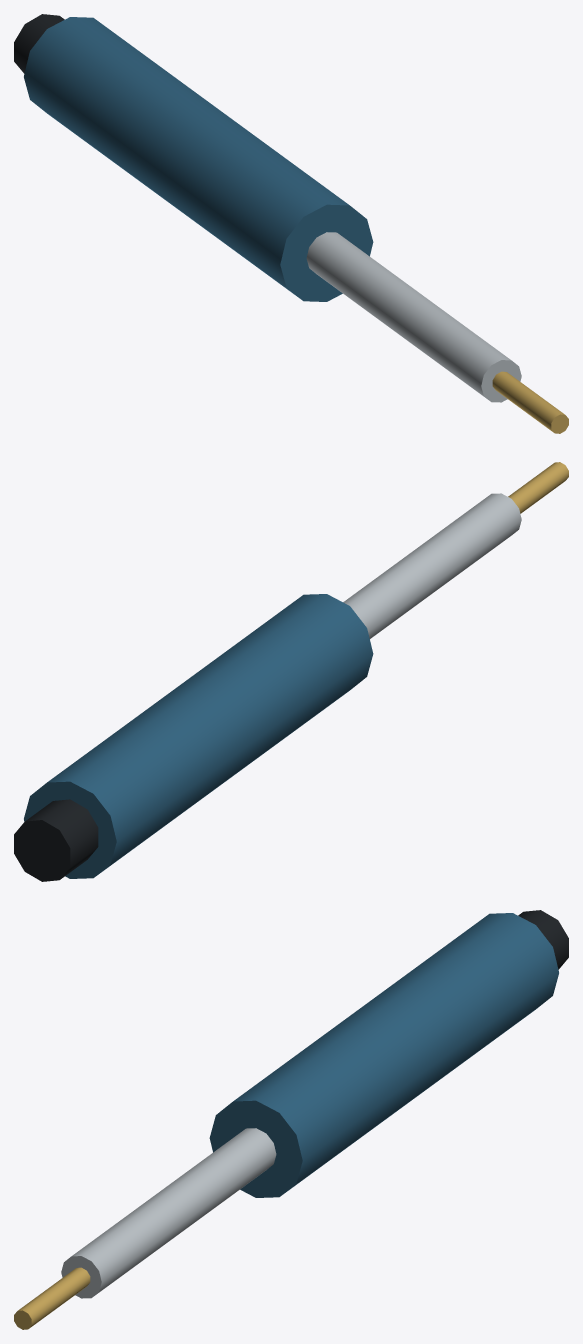
File: tool-soldering-iron.glb
3 renders of one model, top to bottom at view 1: azimuth 30°, elevation 25°; view 2: azimuth 150°, elevation 25°; view 3: azimuth 330°, elevation 25°, orthographic.
Parts seen in each view (by area): view 1: STATIC_paint, STATIC_metal; view 2: STATIC_paint, STATIC_metal; view 3: STATIC_paint, STATIC_metal.
Part boxes in pixels (x1,y1,x2,y2): STATIC_paint: (14, 14, 373, 301); STATIC_metal: (306, 232, 568, 433); STATIC_paint: (14, 594, 373, 881); STATIC_metal: (343, 462, 568, 638); STATIC_paint: (209, 910, 568, 1197); STATIC_metal: (14, 1128, 276, 1329).
Size of the model in its own units: 0.022 by 0.022 by 0.212.
